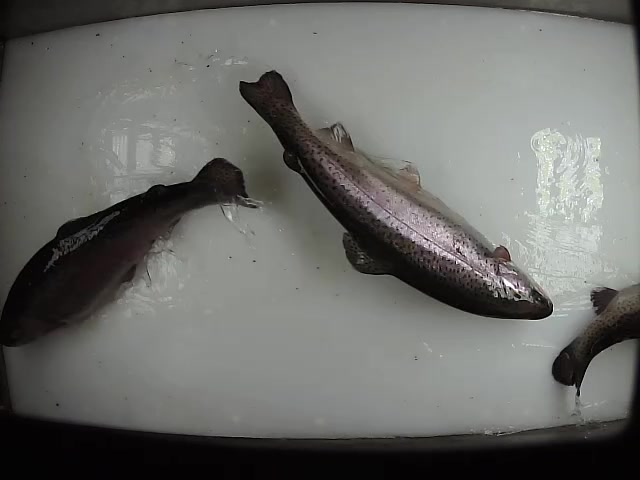fish: (237, 68, 555, 323), (1, 155, 260, 351), (550, 283, 640, 398)
